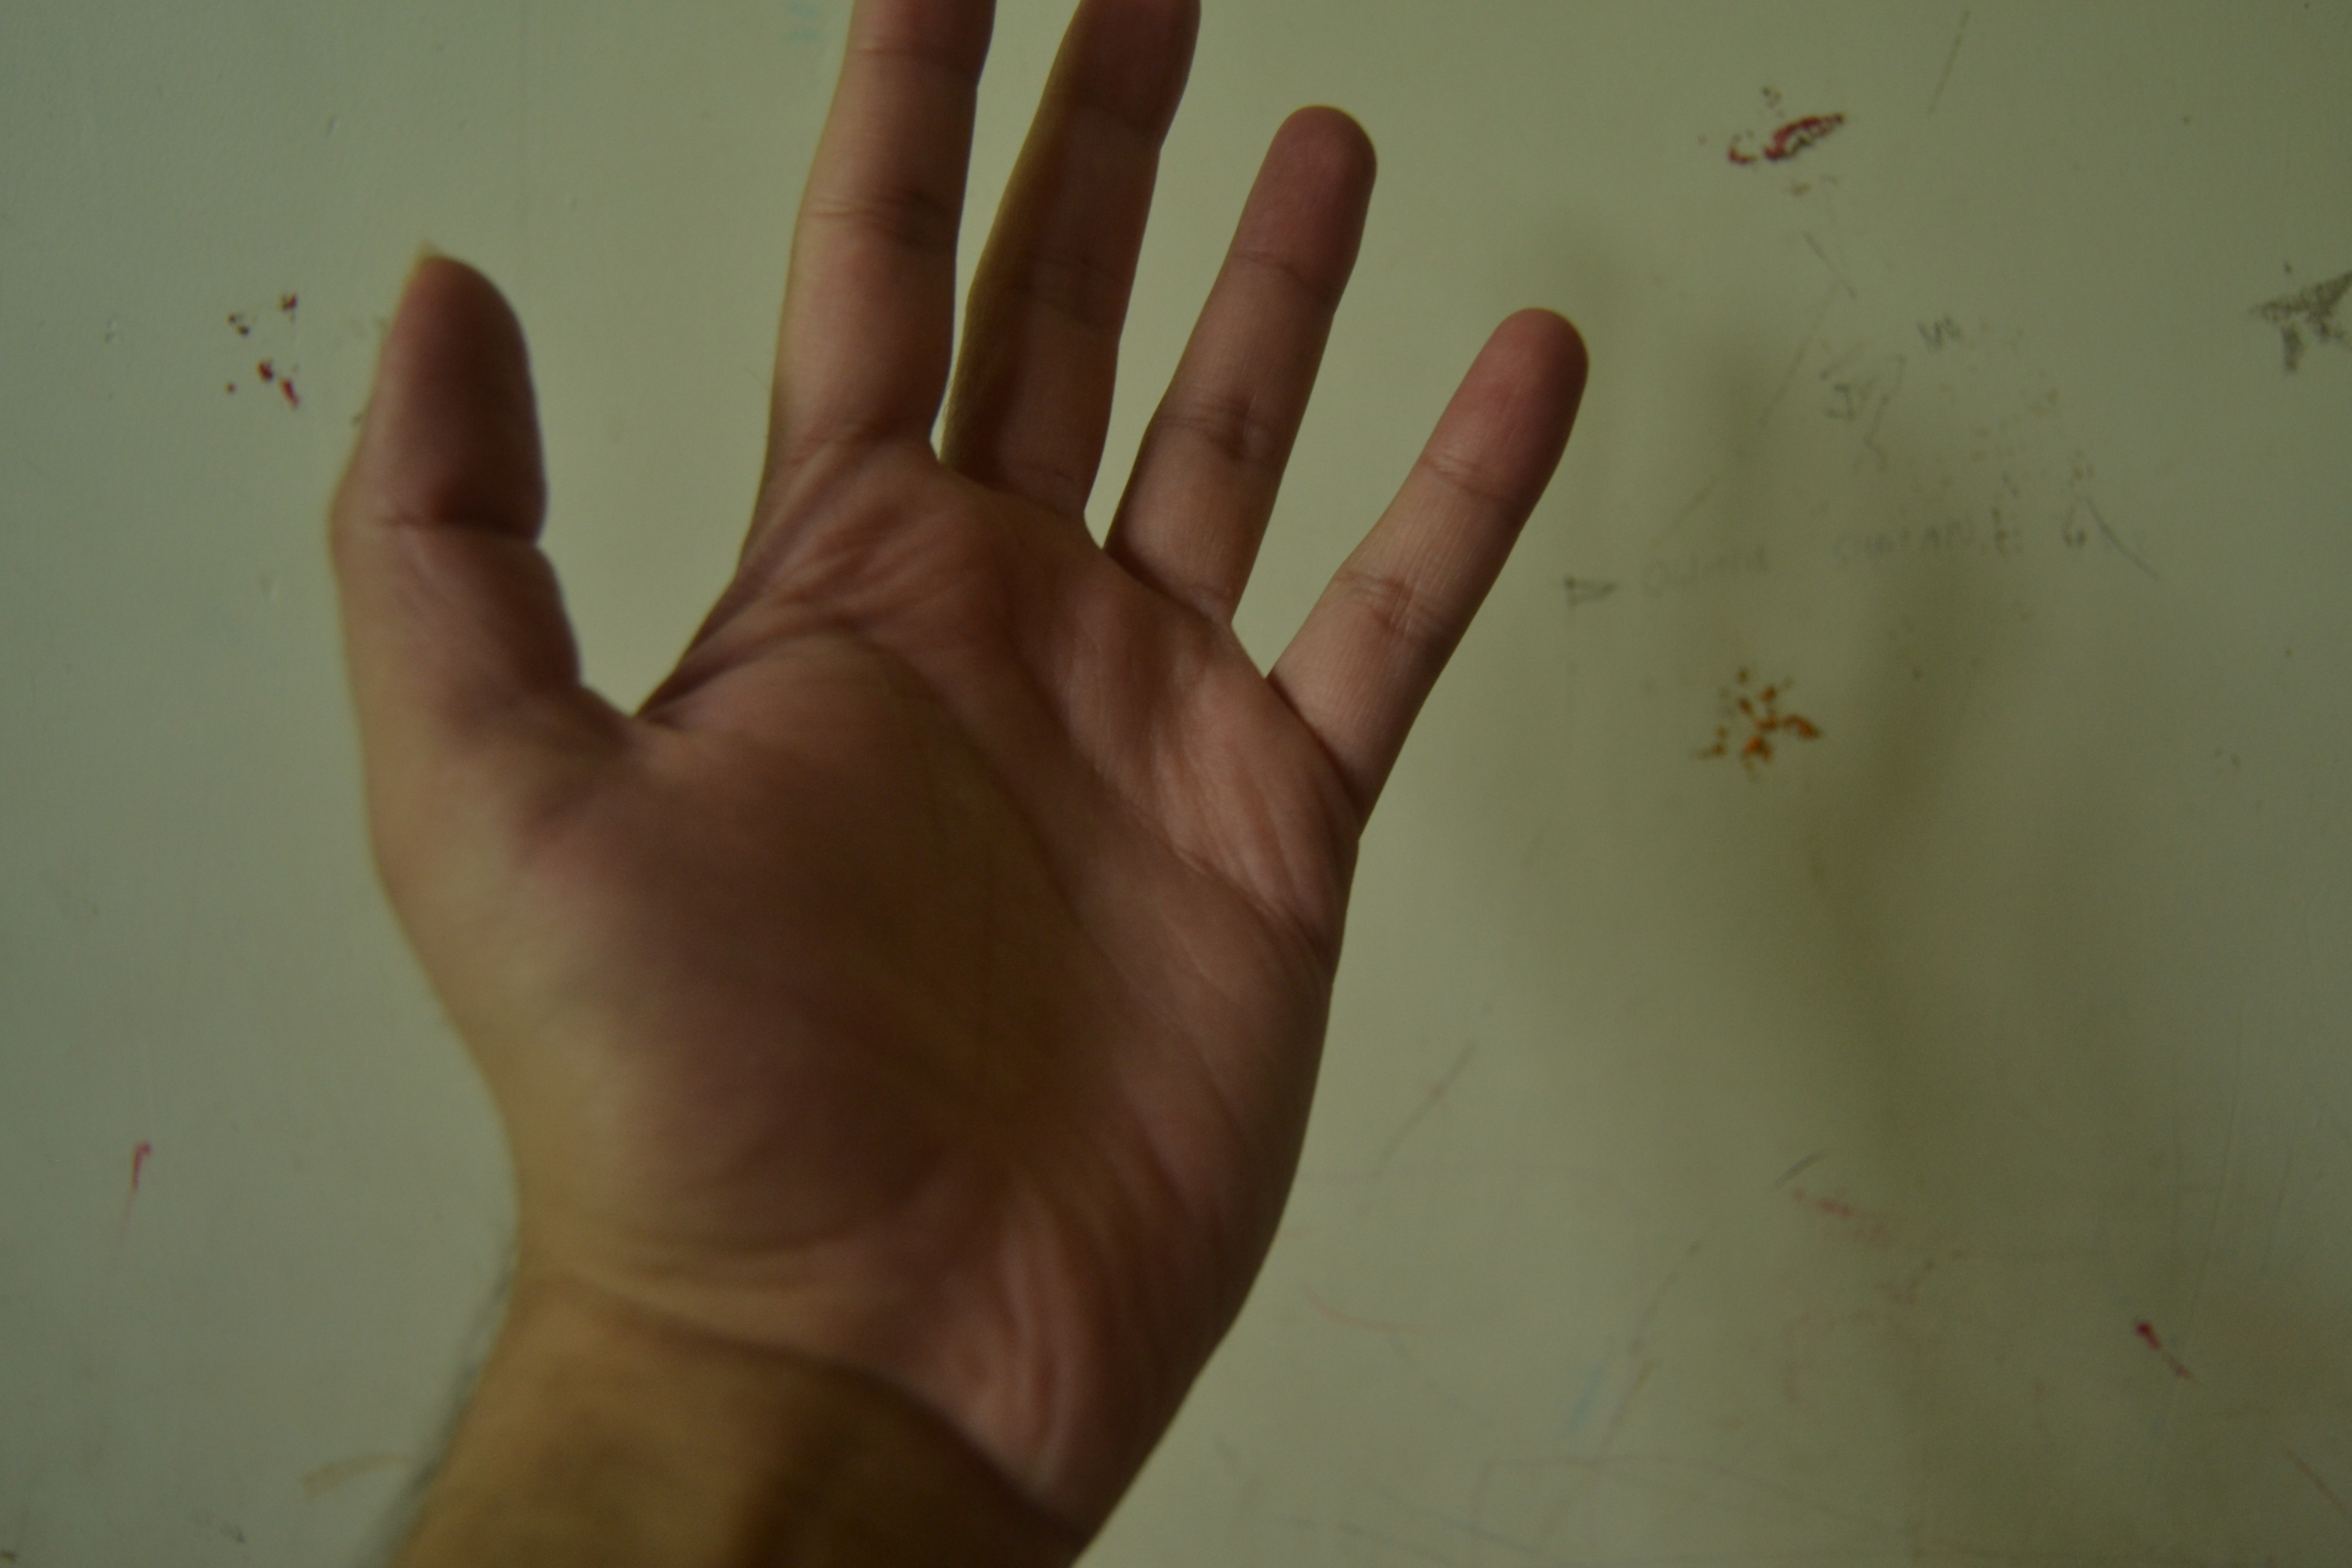move: (243, 21, 1640, 1468)
